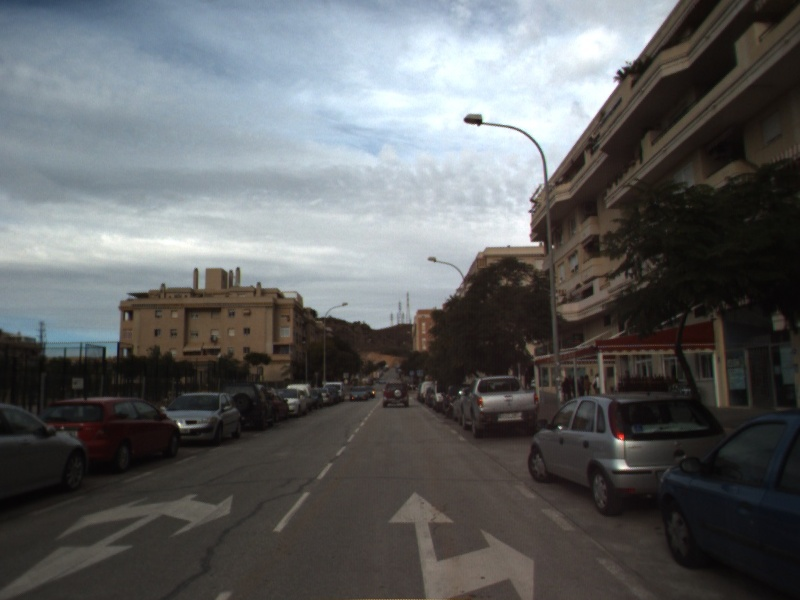STRAIGHT_RIGHT: (385, 489, 537, 600)
